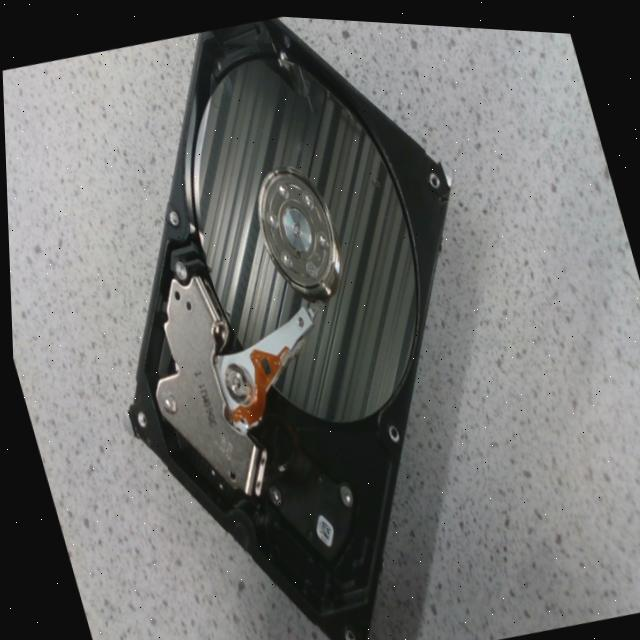actuator arm: (213, 304, 309, 430)
actuator axis: (222, 364, 246, 399)
case: (123, 14, 451, 640)
magnet: (152, 274, 252, 490)
pcb connector: (261, 440, 348, 559)
platter: (188, 54, 413, 413)
platter holder: (256, 164, 339, 297)
screw: (157, 390, 173, 411), (335, 480, 348, 503), (264, 482, 277, 501), (303, 257, 315, 274), (301, 188, 312, 203), (265, 208, 275, 223), (316, 229, 325, 243), (277, 180, 286, 194), (279, 249, 289, 261)
